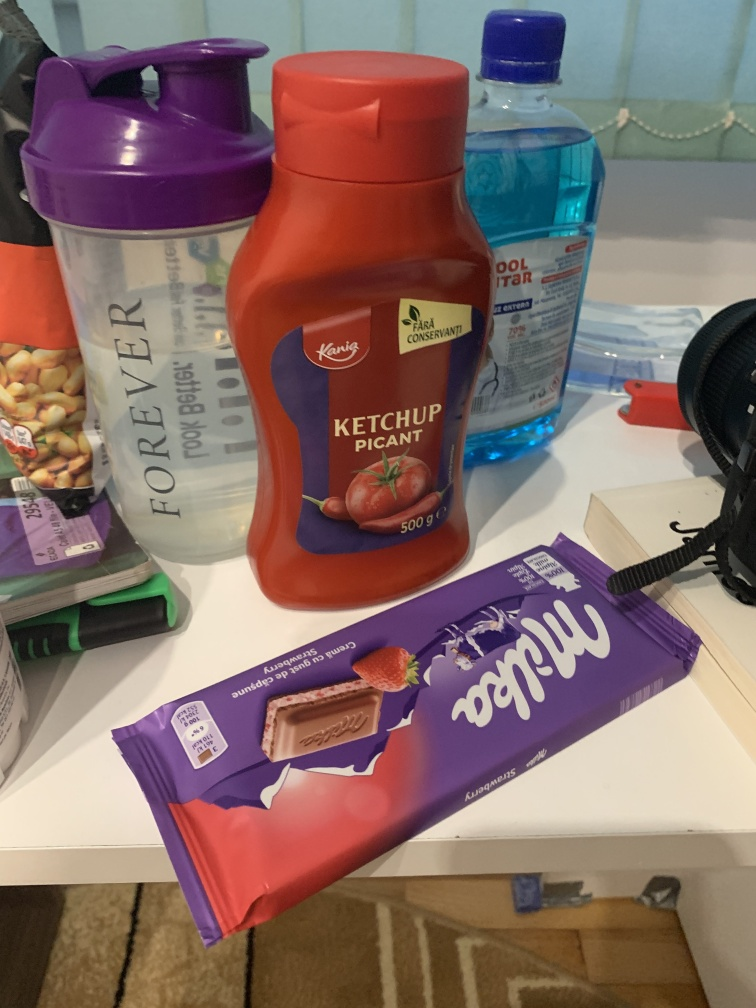ketchup: (224, 45, 507, 620)
milka: (92, 536, 708, 947)
